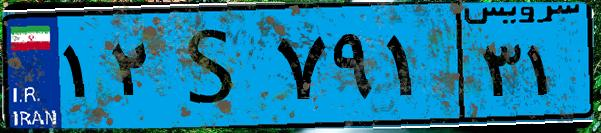1: (385, 28, 445, 110), (57, 26, 110, 100), (525, 38, 570, 115)
2: (110, 28, 158, 98)
3: (475, 38, 525, 113)
7: (270, 28, 330, 110)
9: (330, 28, 385, 110)
S: (158, 12, 270, 120)
